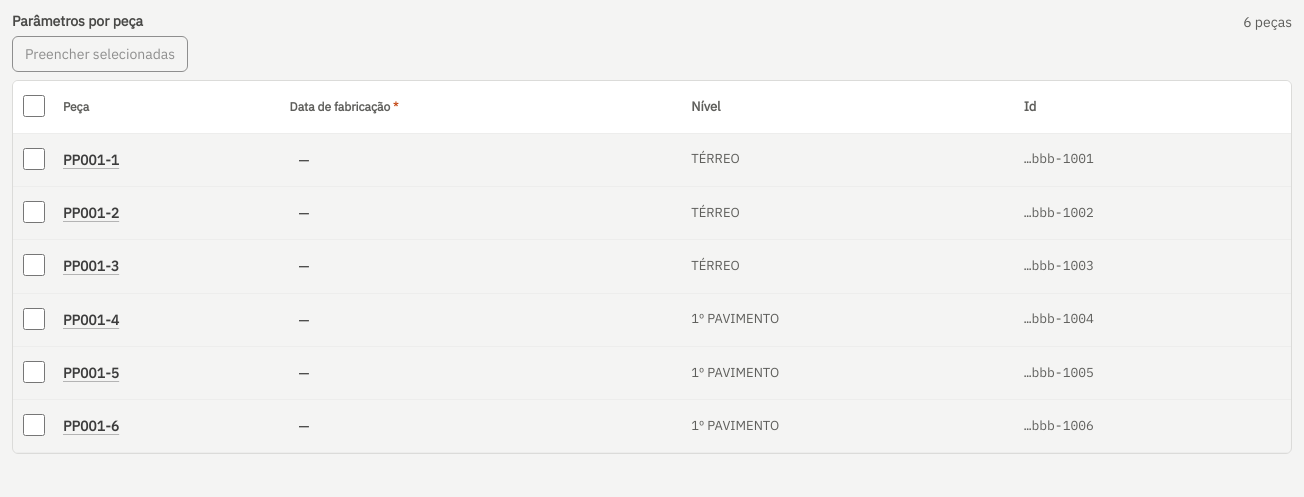
Editor de data por peça (docs/bugs/data-por-peca.md) › ano fora de 1900–2100: avisa abaixo do campo, não grava e o editor continua aberto
Click the button "—" in the row of "…bbb-1003" at (304, 266), box x1=290 y1=246 x2=679 y2=286
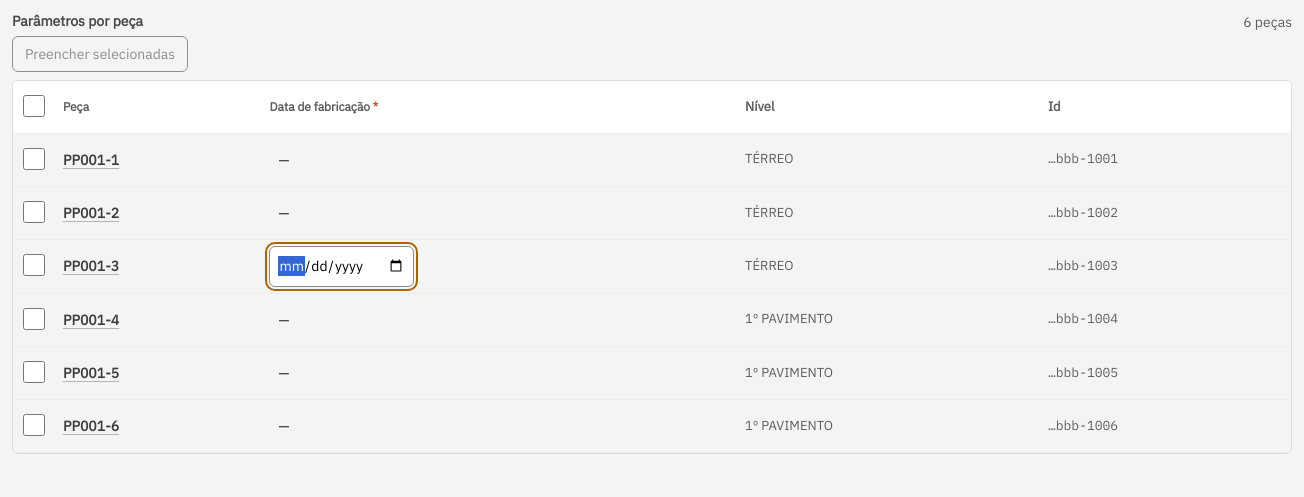
Type "0002-05-05" into the date field named "Data de fabricação de PP001-3" at (342, 266), box x1=270 y1=246 x2=414 y2=287
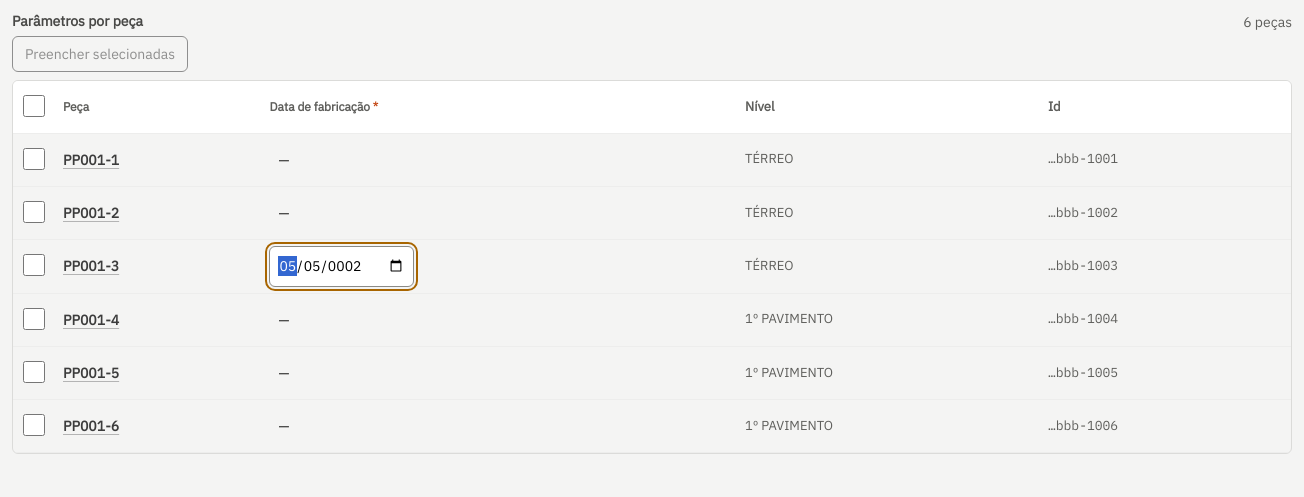
Press Enter
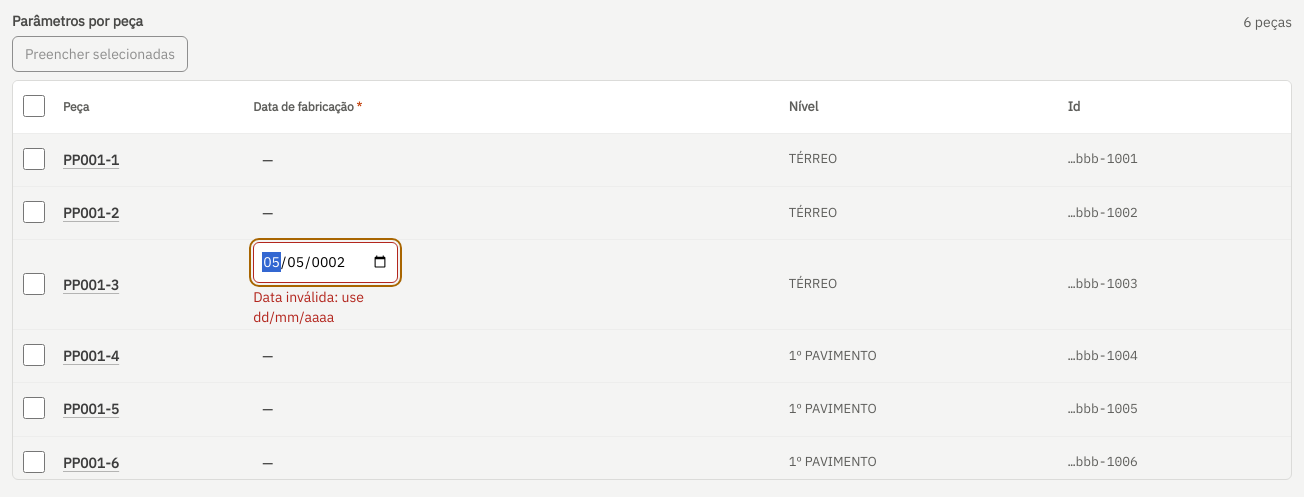
Expected: the message reads "Data inválida: use dd/mm/aaaa", x1=253 y1=288 x2=364 y2=326
corrigir no mesmo campo grava
Type "2026-05-05" into the date field named "Data de fabricação de PP001-3" at (326, 262), box x1=253 y1=242 x2=398 y2=283
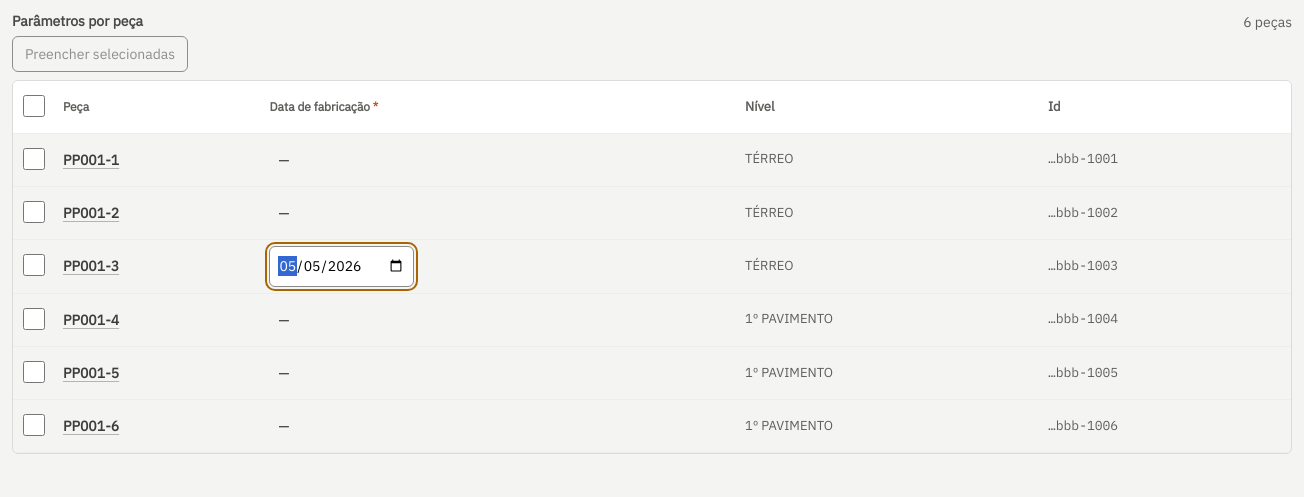
Expected: the text "Data inválida: use dd/mm/aaaa" is gone
Press Enter
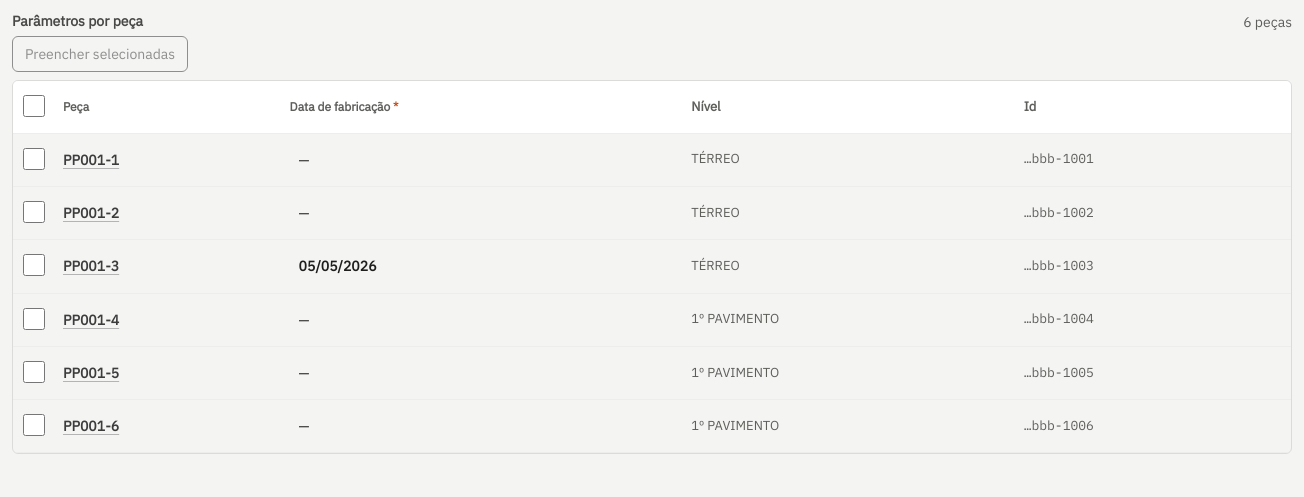
Expected: the button named "Data de fabricação de PP001-3: 05/05/2026" is shown, x1=290 y1=246 x2=679 y2=286
